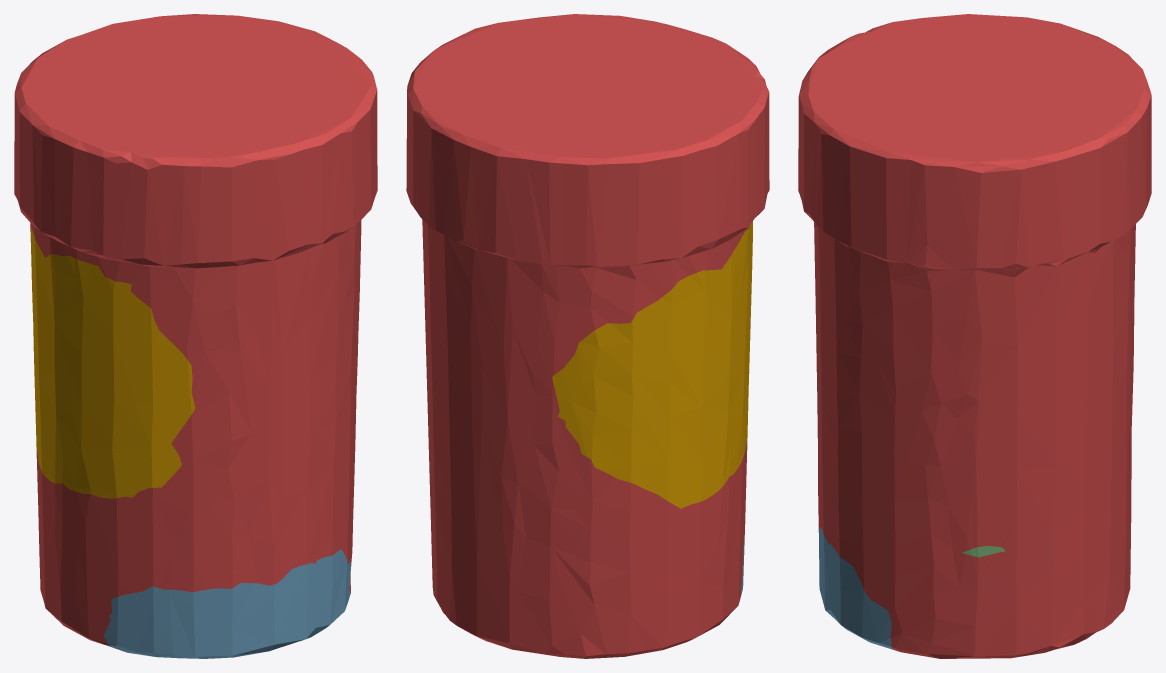
File: fractured_73_4pcs.glb
The picture shows the model from 3 angles, left to right: view 1: azimuth 30°, elevation 25°; view 2: azimuth 150°, elevation 25°; view 3: azimuth 270°, elevation 25°; orthographic projection.
Visible parts, largest first — view 1: piece_1.obj, piece_0.obj, piece_2.obj; view 2: piece_1.obj, piece_0.obj; view 3: piece_1.obj, piece_2.obj.
Part boxes in pixels (x1,y1,x2,y2): piece_1.obj: (14, 14, 377, 646); piece_0.obj: (30, 228, 195, 498); piece_2.obj: (103, 549, 351, 658); piece_1.obj: (406, 14, 769, 658); piece_0.obj: (551, 221, 752, 508); piece_1.obj: (798, 14, 1151, 658); piece_2.obj: (818, 527, 893, 649).
Bounding box in the file's own units: 0.6494 × 0.9998 × 0.6278.
